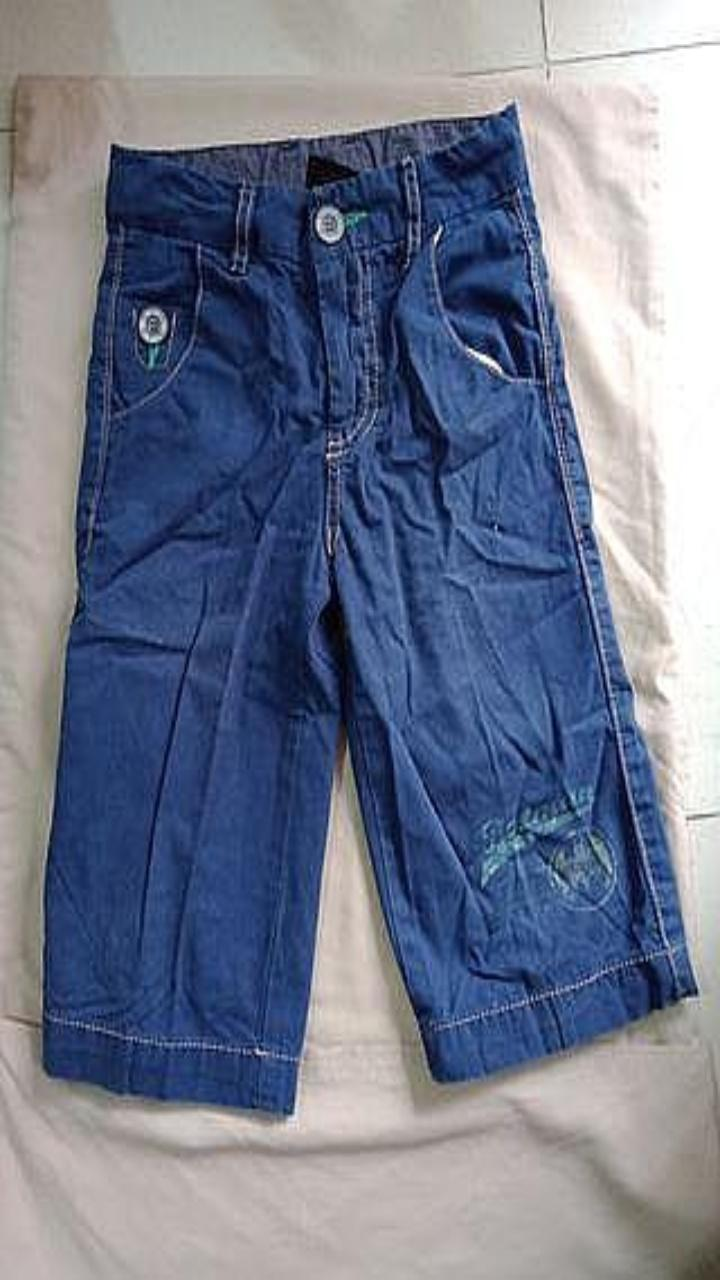Shorts: (43, 101, 697, 1113)
